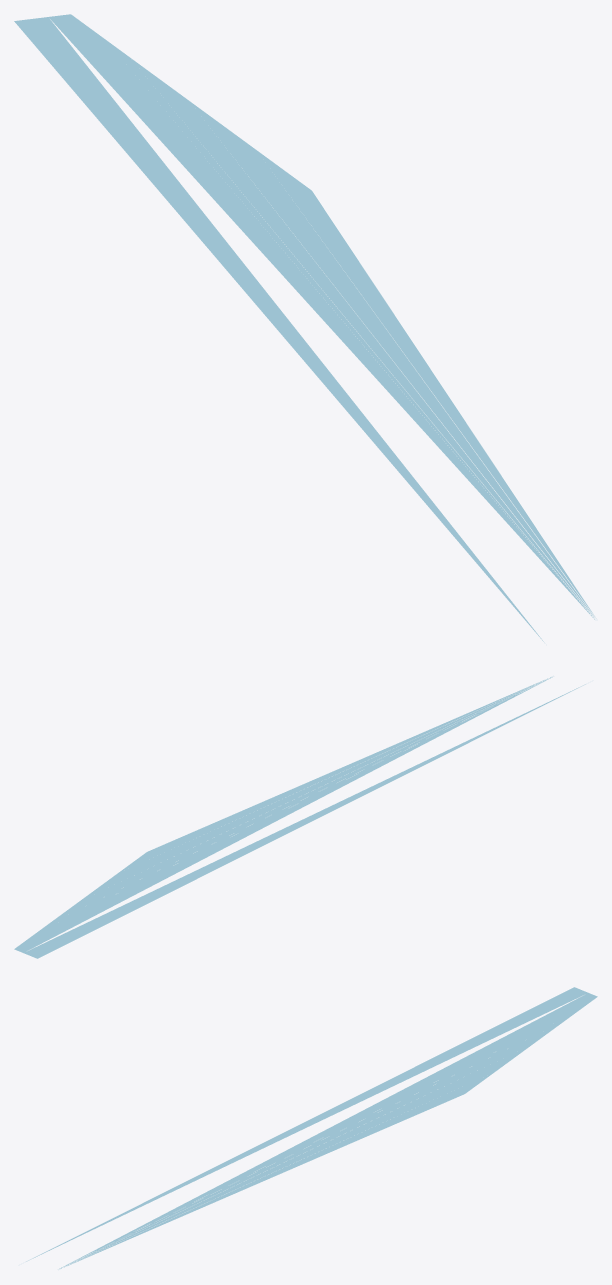
Rendered from terrain-context-D-x6-z1.glb.
3 views of the same model, one above another, from view 1: azimuth 30°, elevation 25°; view 2: azimuth 150°, elevation 25°; view 3: azimuth 330°, elevation 25° (orthographic). The views are drawn at different scales.
Visible parts, largest first — view 1: D-x6-z1; view 2: D-x6-z1; view 3: D-x6-z1.
Part boxes in pixels (box(x1,y1,x2,y2)): D-x6-z1: box(14, 14, 596, 642); D-x6-z1: box(14, 676, 585, 958); D-x6-z1: box(26, 987, 597, 1269).
Bounding box in the file's own units: 47 × 0 × 217.
